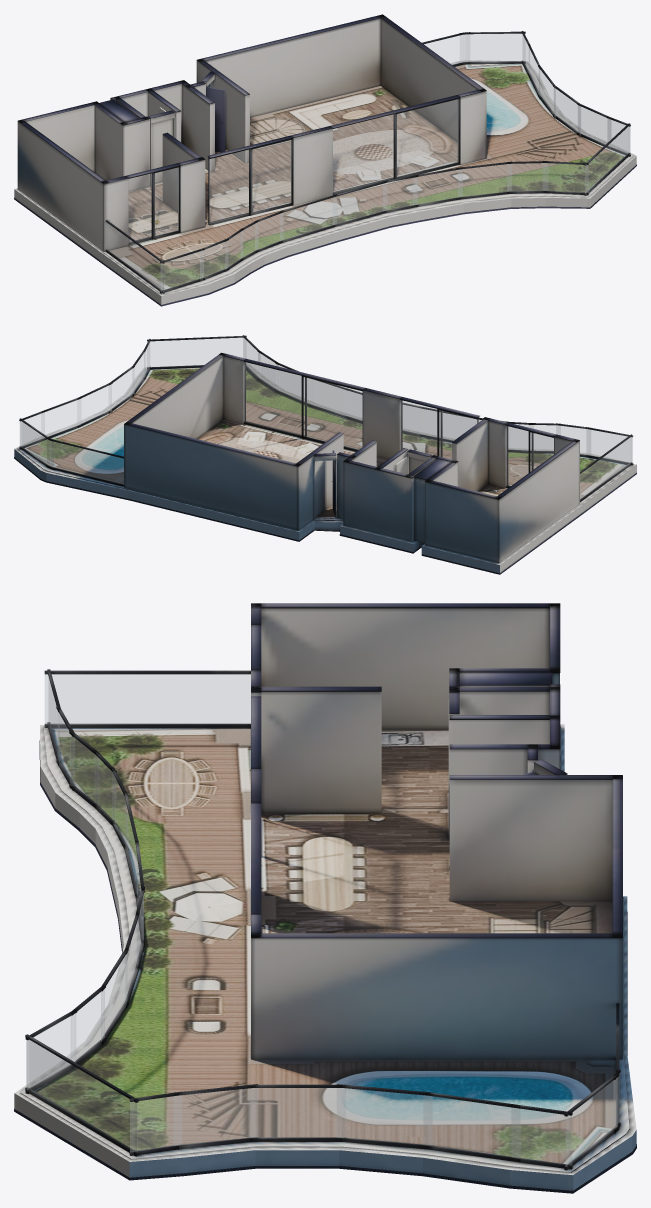
The picture shows the model from 3 angles, top to bottom: view 1: azimuth 30°, elevation 25°; view 2: azimuth 150°, elevation 25°; view 3: azimuth 270°, elevation 25°; orthographic projection. The views are drawn at different scales.
Parts seen in each view (by area): view 1: plan, glass2_m, glass1_m, glass0_m, railg2_m, railg7_m, railg17_m, railg16_m, railg13_m, railg14_m, railg11_m, railg22_m (+12 smaller); view 2: plan, glass2_m, glass1_m, railg10_m, railg0_m, glass0_m, railg7_m, railg22_m, railg4_m, railg5_m, railg17_m, railg14_m (+11 smaller); view 3: plan, railg7_m, railg10_m, railg4_m, railg6_m, railg5_m, railg8_m, railg3_m, railg9_m, railg2_m, railg11_m, railg12_m (+4 smaller).
Boxes of the visible parts, left/top/right/bottom form: plan: left=14, top=14, right=636, bottom=306; glass2_m: left=333, top=99, right=458, bottom=192; glass1_m: left=209, top=140, right=291, bottom=222; glass0_m: left=129, top=167, right=178, bottom=242; railg2_m: left=465, top=34, right=525, bottom=61; railg7_m: left=106, top=223, right=163, bottom=291; railg17_m: left=280, top=197, right=336, bottom=240; railg16_m: left=333, top=183, right=387, bottom=224; railg13_m: left=458, top=164, right=511, bottom=196; railg14_m: left=413, top=169, right=462, bottom=204; railg11_m: left=543, top=163, right=588, bottom=192; railg22_m: left=160, top=250, right=203, bottom=290; plan: left=14, top=335, right=636, bottom=574; glass2_m: left=244, top=362, right=362, bottom=449; glass1_m: left=401, top=400, right=476, bottom=458; railg10_m: left=147, top=338, right=245, bottom=367; railg0_m: left=50, top=441, right=123, bottom=484; glass0_m: left=507, top=426, right=553, bottom=486; railg7_m: left=580, top=437, right=631, bottom=499; railg22_m: left=586, top=429, right=632, bottom=463; railg4_m: left=41, top=399, right=80, bottom=436; railg5_m: left=77, top=384, right=111, bottom=425; railg17_m: left=426, top=410, right=480, bottom=440; railg14_m: left=313, top=380, right=345, bottom=415; plan: left=14, top=603, right=636, bottom=1193; railg7_m: left=45, top=674, right=250, bottom=723; railg10_m: left=26, top=1040, right=137, bottom=1152; railg4_m: left=423, top=1095, right=520, bottom=1158; railg6_m: left=249, top=1088, right=345, bottom=1137; railg5_m: left=337, top=1088, right=432, bottom=1145; railg8_m: left=173, top=1088, right=257, bottom=1145; railg3_m: left=511, top=1108, right=571, bottom=1165; railg9_m: left=130, top=1095, right=182, bottom=1151; railg2_m: left=565, top=1078, right=617, bottom=1166; railg11_m: left=27, top=1013, right=75, bottom=1089; railg12_m: left=71, top=989, right=104, bottom=1061.
Size of the model in its own units: 17.93 by 2.62 by 10.47.
Materials: 2 (1 with a texture image).
